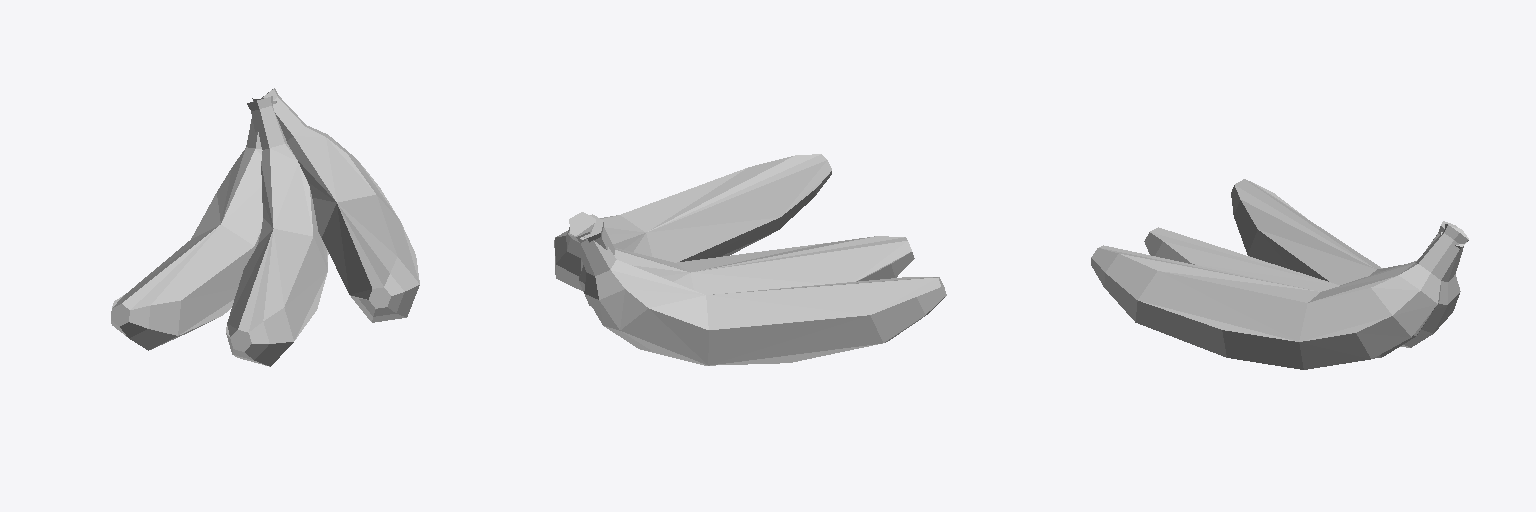
File: banana3.obj
3 views of the same model, side by side, from view 1: azimuth 30°, elevation 25°; view 2: azimuth 150°, elevation 25°; view 3: azimuth 270°, elevation 25° (orthographic).
Visible parts, largest first — view 1: Icosphere.003, Icosphere.004, Icosphere.002; view 2: Icosphere.002, Icosphere.004, Icosphere.003; view 3: Icosphere.004, Icosphere.002, Icosphere.003.
Part boxes in pixels (bbox=[...]): Icosphere.003: bbox=[226, 96, 328, 366]; Icosphere.004: bbox=[260, 88, 419, 322]; Icosphere.002: bbox=[111, 98, 276, 350]; Icosphere.002: bbox=[568, 223, 946, 365]; Icosphere.004: bbox=[554, 154, 831, 290]; Icosphere.003: bbox=[579, 214, 914, 306]; Icosphere.004: bbox=[1091, 224, 1467, 369]; Icosphere.002: bbox=[1231, 179, 1468, 347]; Icosphere.003: bbox=[1144, 221, 1457, 358].
Size of the model in its own units: 0.2442 by 0.117 by 0.2479.